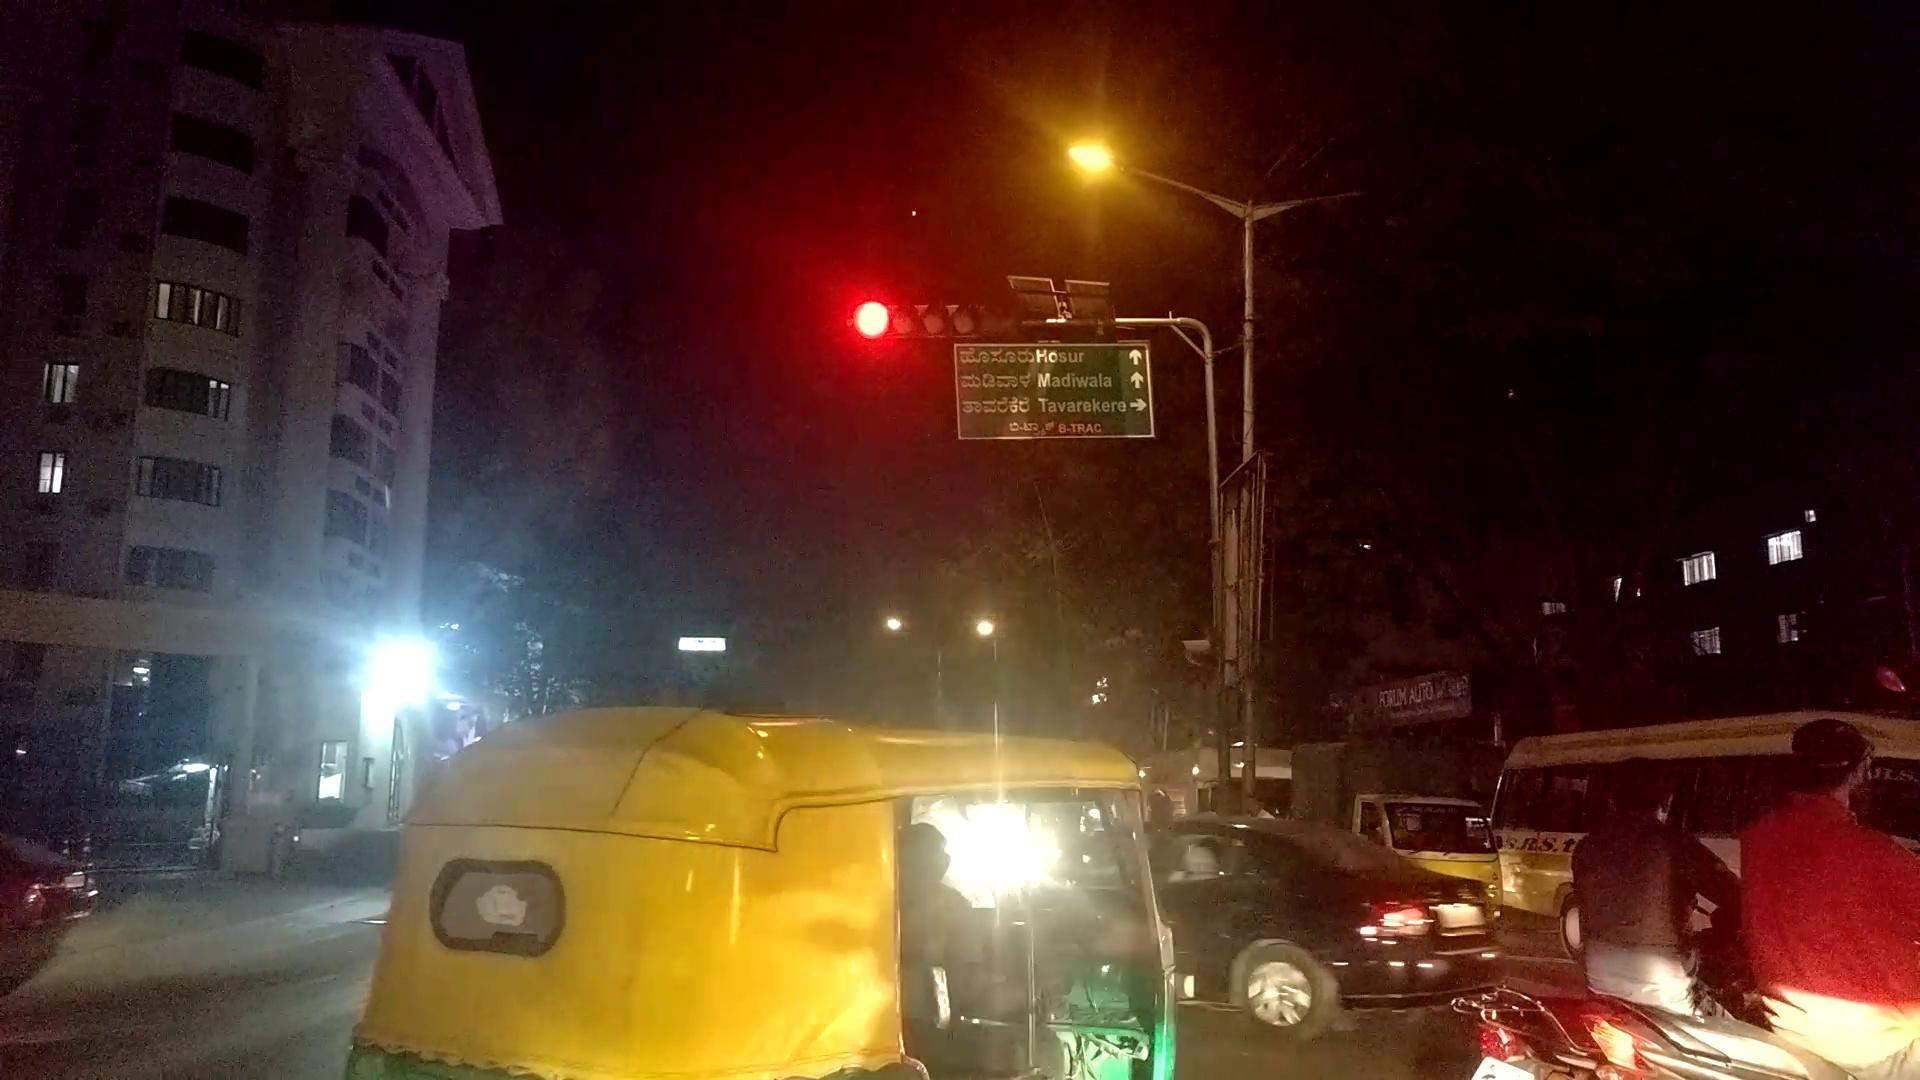on: (960, 42, 1247, 266)
